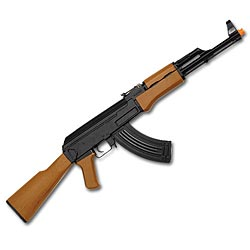rifle: (6, 22, 245, 234)
